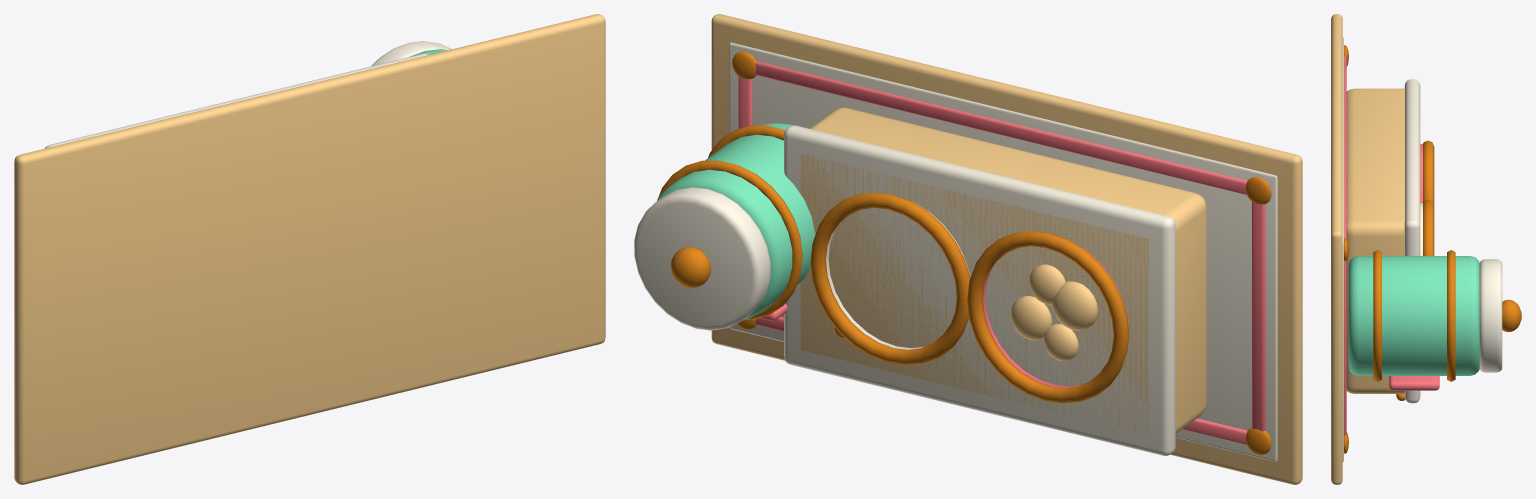
Rendered from KitchenFeedingStation_Premium.fbx.
3 views of the same model, side by side, from view 1: azimuth 30°, elevation 25°; view 2: azimuth 150°, elevation 25°; view 3: azimuth 270°, elevation 25° (orthographic). The views are drawn at different scales.
Visible parts, largest first — view 1: KitchenFeedingStation; view 2: KitchenFeedingStation; view 3: KitchenFeedingStation.
Boxes of the visible parts, x1,y1,x2,y2 form: KitchenFeedingStation: [14, 14, 605, 484]; KitchenFeedingStation: [634, 14, 1302, 484]; KitchenFeedingStation: [1331, 14, 1521, 484].
Bounding box in the file's own units: 1.35 × 0.72 × 0.492.
